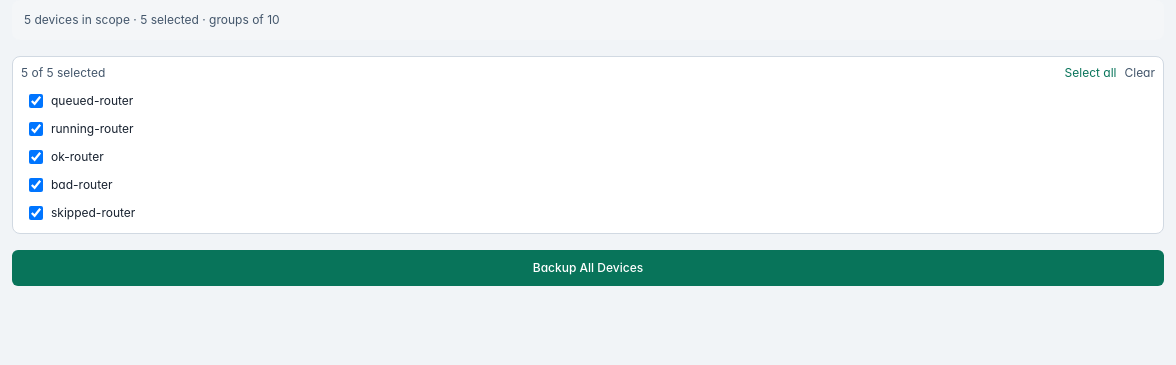
Test: BulkBackupPanel — uses persistent backend bulk runs › shows aggregate progress counts and the current running device
Click the button "Backup All Devices" at (588, 268), box [12,250,1164,286]
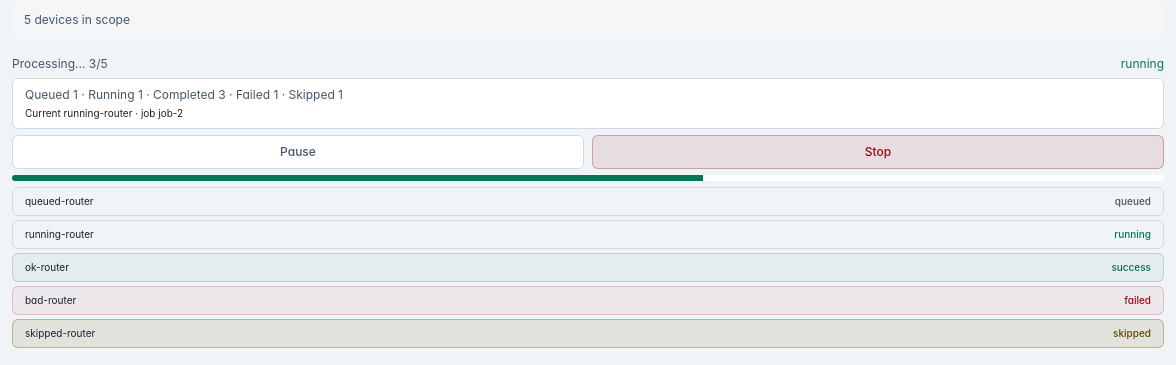
Now the text "Queued 1 · Running 1 · Completed 3 · Failed 1 · Skipped 1" is shown, box [25,87,343,102]
Now the text "Current running-router · job job-2" is shown, box [25,107,183,119]
